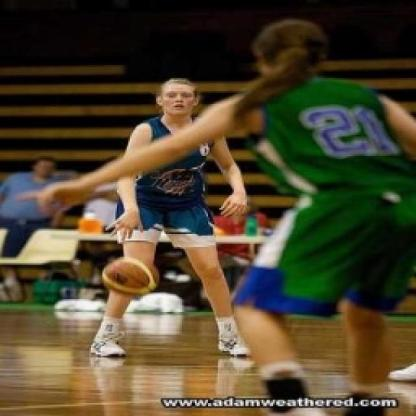basketball: (97, 251, 162, 298)
